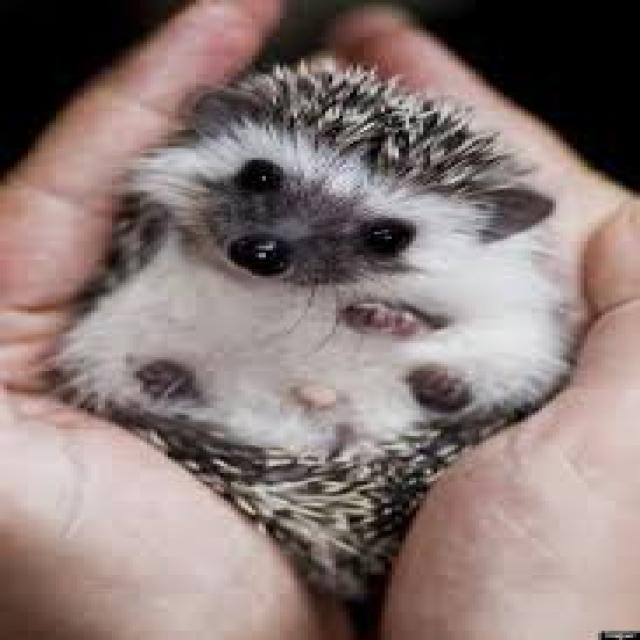Hedgehog: (65, 62, 593, 552)
